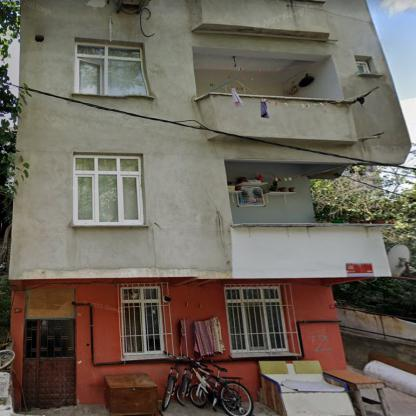door: (24, 320, 75, 406)
window: (76, 156, 140, 222), (74, 43, 145, 95), (226, 289, 286, 350), (122, 288, 162, 353), (356, 64, 366, 73)
